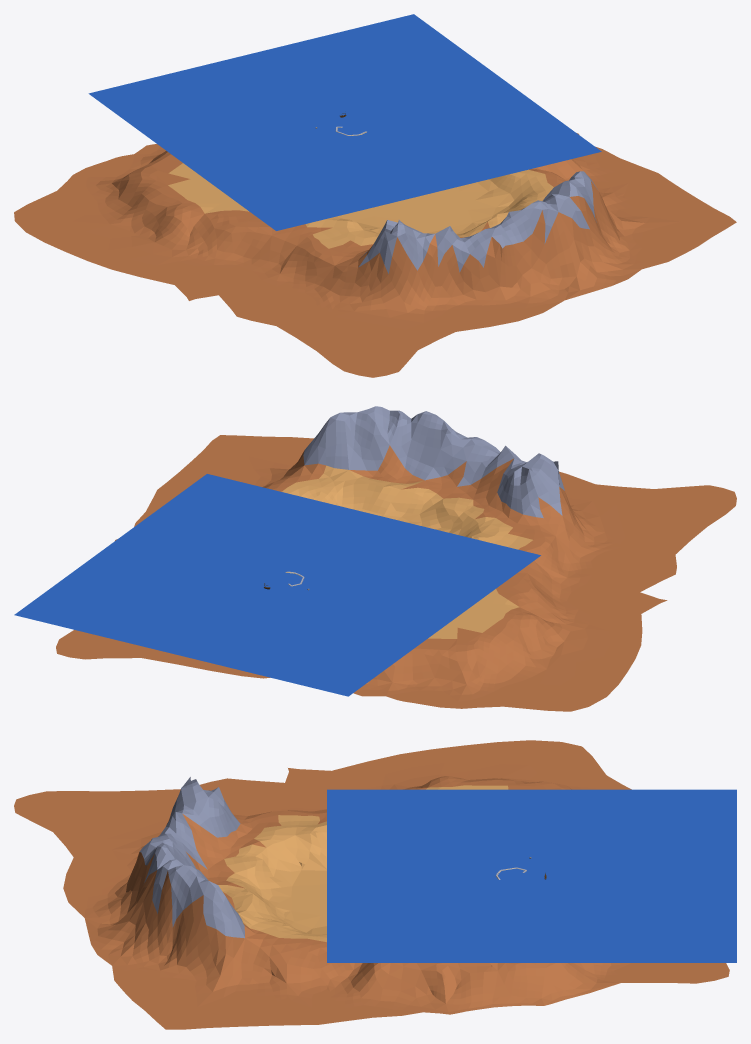
File: IslandHub.glb
3 renders of one model, top to bottom at view 1: azimuth 30°, elevation 25°; view 2: azimuth 150°, elevation 25°; view 3: azimuth 270°, elevation 25°, orthographic. The views are drawn at different scales.
Visible parts, largest first — view 1: New_island, Water; view 2: New_island, Water; view 3: New_island, Water.
Boxes of the visible parts, x1,y1,x2,y2 form: New_island: (14,133,736,377); Water: (88,14,601,230); New_island: (56,406,736,711); Water: (14,474,540,696); New_island: (14,740,729,1029); Water: (327,789,736,962).
Size of the model in its own units: 222 by 28.46 by 235.
Materials: 4 (4 with a texture image).
